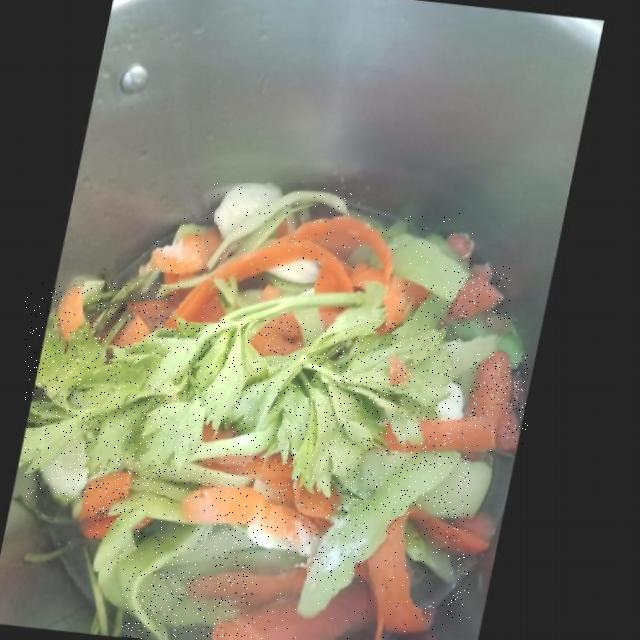biowaste: (26, 284, 461, 500), (308, 452, 470, 620), (179, 218, 398, 320), (122, 524, 253, 639), (211, 184, 354, 272), (352, 210, 477, 303), (190, 486, 340, 558), (102, 478, 211, 572), (365, 515, 447, 639), (226, 582, 378, 639), (470, 353, 528, 447), (392, 419, 504, 454), (447, 266, 510, 328), (151, 225, 227, 276), (85, 472, 141, 539)
